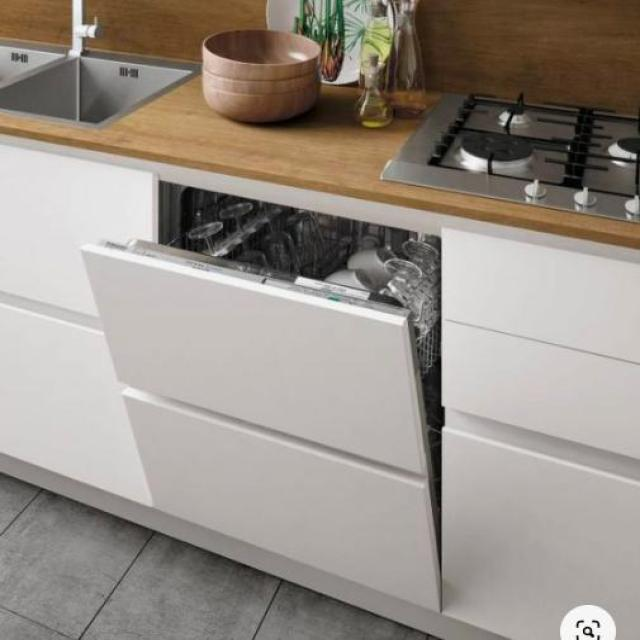dishwasher: (73, 164, 459, 635)
